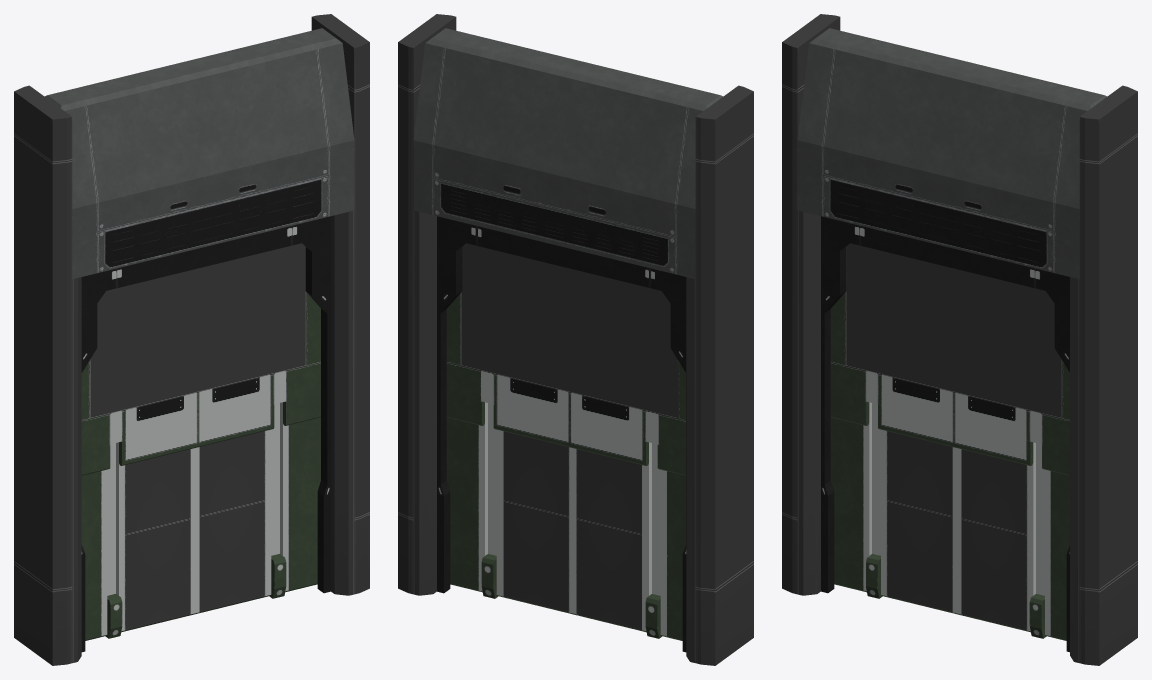
The model's file is Storage_door.FBX.
3 renders of one model, left to right at view 1: azimuth 30°, elevation 25°; view 2: azimuth 150°, elevation 25°; view 3: azimuth 330°, elevation 25°, orthographic.
Visible parts, largest first — view 1: Box10668, Object34899, Object34898, Object34896, Object34897; view 2: Box10668, Object34899, Object34898, Object34896, Object34897; view 3: Box10668, Object34899, Object34898, Object34897, Object34896.
Boxes of the visible parts, x1,y1,x2,y2 form: Box10668: (44, 28, 354, 662); Object34899: (81, 243, 320, 475); Object34898: (81, 402, 320, 640); Object34896: (14, 85, 72, 665); Object34897: (311, 14, 369, 594); Box10668: (413, 28, 723, 662); Object34899: (446, 243, 685, 475); Object34898: (446, 402, 685, 640); Object34896: (695, 85, 753, 665); Object34897: (398, 14, 456, 594); Box10668: (797, 28, 1107, 662); Object34899: (830, 243, 1069, 475); Object34898: (830, 402, 1069, 640); Object34897: (1079, 85, 1137, 665); Object34896: (782, 14, 840, 594).
Size of the model in its own units: 84.93 by 140 by 19.84.
1 material, 1 textured.
